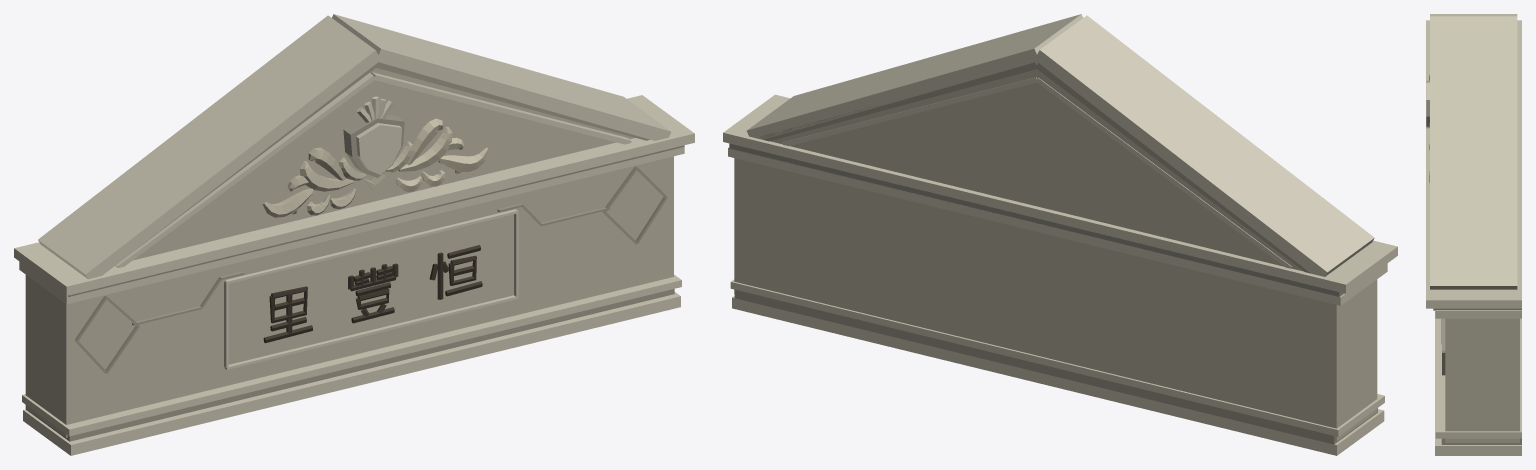
Rendered from hongkou-xin-hengfengli-pediment-lod.glb.
3 renders of one model, left to right at view 1: azimuth 30°, elevation 25°; view 2: azimuth 150°, elevation 25°; view 3: azimuth 270°, elevation 25°, orthographic. The views are drawn at different scales.
Visible parts, largest first — view 1: 新恒丰里山阴路85弄门楼题额与盾饰山花; view 2: 新恒丰里山阴路85弄门楼题额与盾饰山花; view 3: 新恒丰里山阴路85弄门楼题额与盾饰山花.
Part boxes in pixels (x1,y1,x2,y2): 新恒丰里山阴路85弄门楼题额与盾饰山花: (14,14,694,455); 新恒丰里山阴路85弄门楼题额与盾饰山花: (723,14,1397,455); 新恒丰里山阴路85弄门楼题额与盾饰山花: (1426,14,1521,455).
Bounding box in the file's own units: 4.88 × 2.48 × 0.707.
